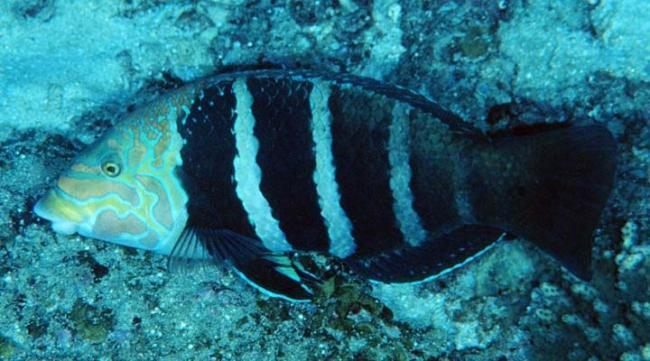fish: (33, 67, 621, 305)
